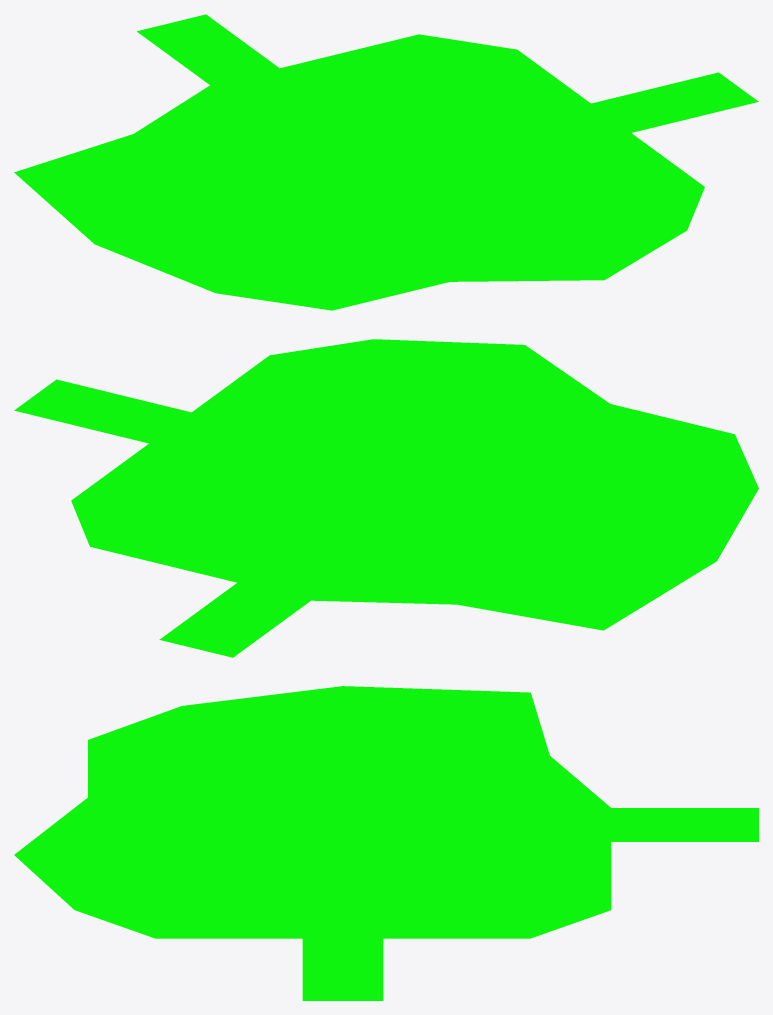
File: s05a_lb1-floor.glb
The picture shows the model from 3 angles, top to bottom: view 1: azimuth 30°, elevation 25°; view 2: azimuth 150°, elevation 25°; view 3: azimuth 270°, elevation 25°; orthographic projection. The views are drawn at different scales.
Parts seen in each view (by area): view 1: collision_floor-colonly; view 2: collision_floor-colonly; view 3: collision_floor-colonly.
Boxes of the visible parts, <box> form: collision_floor-colonly: <box>14,14,758,310</box>; collision_floor-colonly: <box>14,339,758,657</box>; collision_floor-colonly: <box>14,686,758,1000</box>.
Size of the model in its own units: 55.5 by 0 by 55.51.
